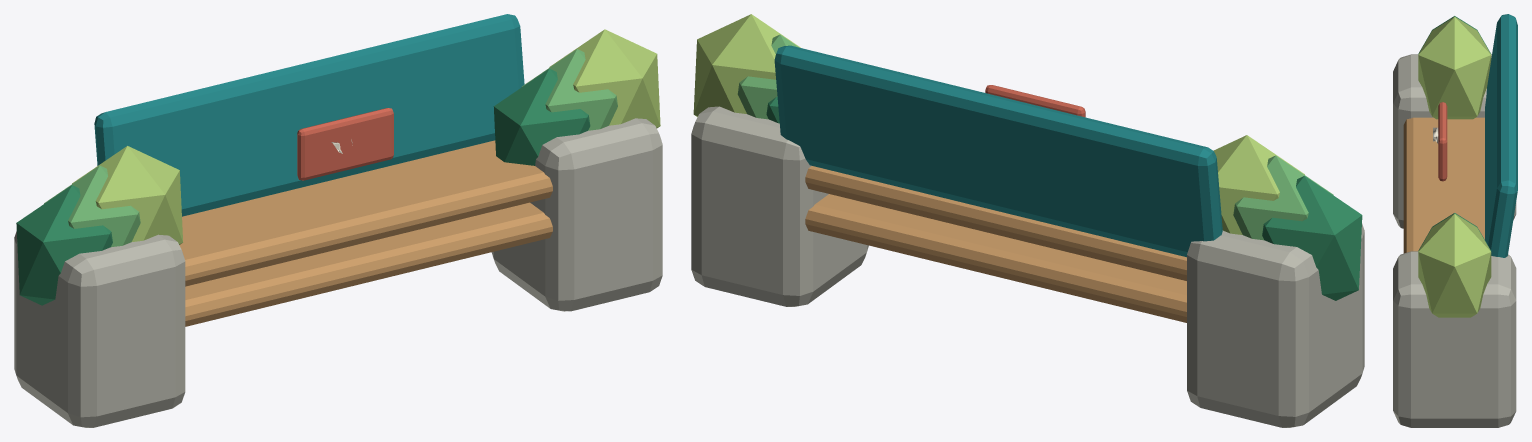
File: bench-v2.glb
3 renders of one model, left to right at view 1: azimuth 30°, elevation 25°; view 2: azimuth 150°, elevation 25°; view 3: azimuth 270°, elevation 25°, orthographic. The views are drawn at different scales.
Parts seen in each view (by area): view 1: NEIGHBOURHOOD BENCH · Chalk; view 2: NEIGHBOURHOOD BENCH · Chalk; view 3: NEIGHBOURHOOD BENCH · Chalk.
Part boxes in pixels (bbox=[...]): NEIGHBOURHOOD BENCH · Chalk: bbox=[14, 14, 662, 427]; NEIGHBOURHOOD BENCH · Chalk: bbox=[691, 14, 1364, 427]; NEIGHBOURHOOD BENCH · Chalk: bbox=[1393, 14, 1517, 427].
Size of the model in its own units: 4.14 by 1.58 by 0.8296.
1 material, 1 textured.
